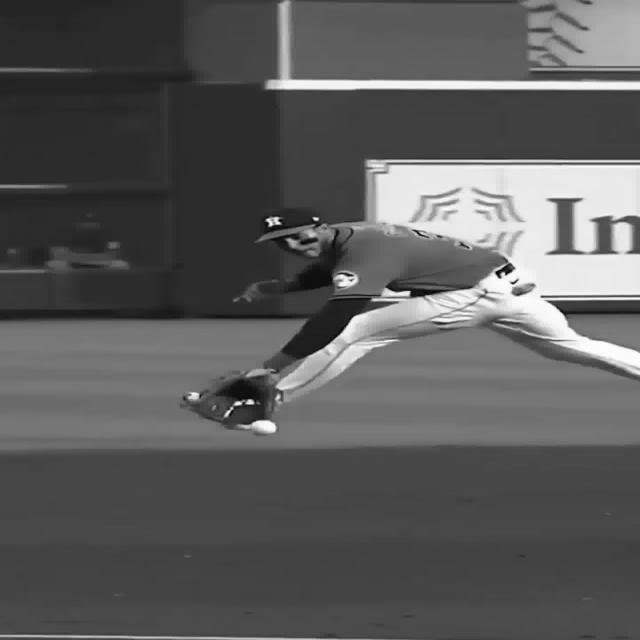baseball: (249, 420, 277, 436)
baseball_glove: (180, 368, 284, 431)
